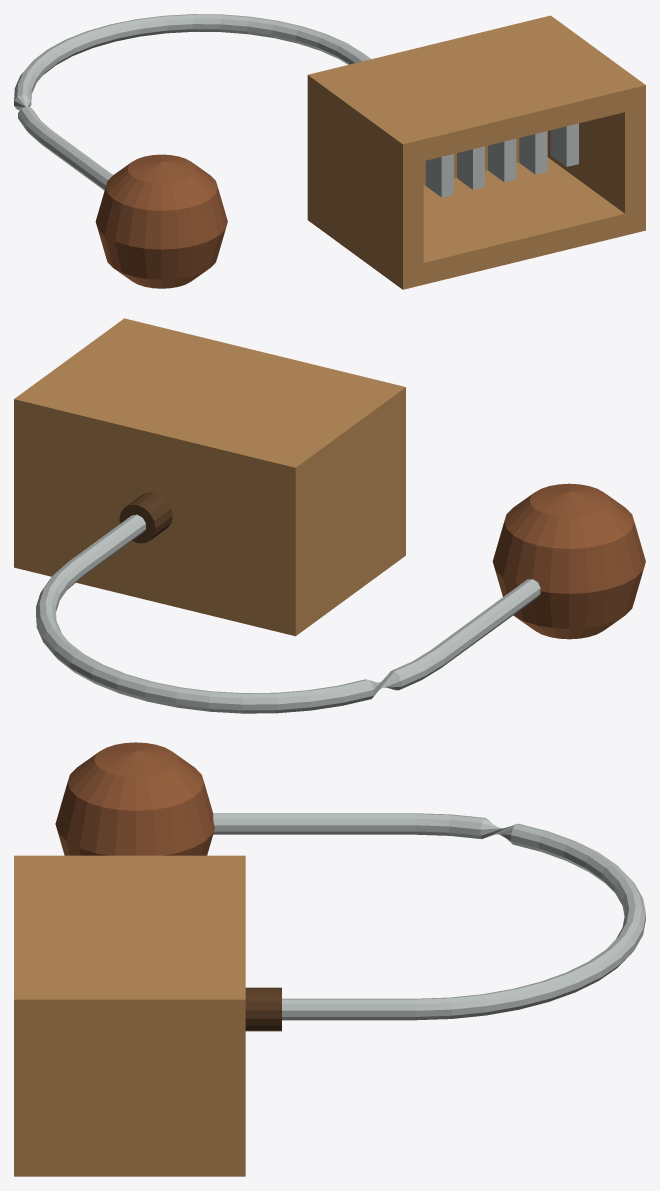
3 views of the same model, one above another, from view 1: azimuth 30°, elevation 25°; view 2: azimuth 150°, elevation 25°; view 3: azimuth 270°, elevation 25° (orthographic). The views are drawn at different scales.
Parts seen in each view (by area): view 1: WholeGroundFootOpenFrontBlindTineChamber, WholeRoundedBallEnd, WholeContinuousBroadUReturnRod, WholeRoofRootedShortTine_03, WholeRoofRootedShortTine_04, WholeRoofRootedShortTine_01, WholeRoofRootedShortTine_05, WholeRoofRootedShortTine_02; view 2: WholeGroundFootOpenFrontBlindTineChamber, WholeRoundedBallEnd, WholeContinuousBroadUReturnRod, WholeBoxRootSleeve; view 3: WholeGroundFootOpenFrontBlindTineChamber, WholeContinuousBroadUReturnRod, WholeRoundedBallEnd, WholeBoxRootSleeve.
Part boxes in pixels (left/top/right/bottom): WholeGroundFootOpenFrontBlindTineChamber: left=307, top=15, right=645, bottom=289; WholeRoundedBallEnd: left=95, top=154, right=227, bottom=288; WholeContinuousBroadUReturnRod: left=14, top=14, right=371, bottom=190; WholeRoofRootedShortTine_03: left=488, top=139, right=516, bottom=182; WholeRoofRootedShortTine_04: left=519, top=131, right=547, bottom=174; WholeRoofRootedShortTine_01: left=425, top=154, right=453, bottom=197; WholeRoofRootedShortTine_05: left=550, top=123, right=578, bottom=166; WholeRoofRootedShortTine_02: left=457, top=146, right=484, bottom=189; WholeGroundFootOpenFrontBlindTineChamber: left=14, top=318, right=405, bottom=636; WholeRoundedBallEnd: left=492, top=483, right=645, bottom=639; WholeContinuousBroadUReturnRod: left=36, top=514, right=540, bottom=713; WholeBoxRootSleeve: left=119, top=492, right=172, bottom=543; WholeGroundFootOpenFrontBlindTineChamber: left=14, top=855, right=245, bottom=1176; WholeContinuousBroadUReturnRod: left=213, top=813, right=645, bottom=1020; WholeRoundedBallEnd: left=55, top=742, right=214, bottom=855; WholeBoxRootSleeve: left=245, top=987, right=281, bottom=1031.
Size of the model in its own units: 0.283 by 0.08 by 0.2593.
